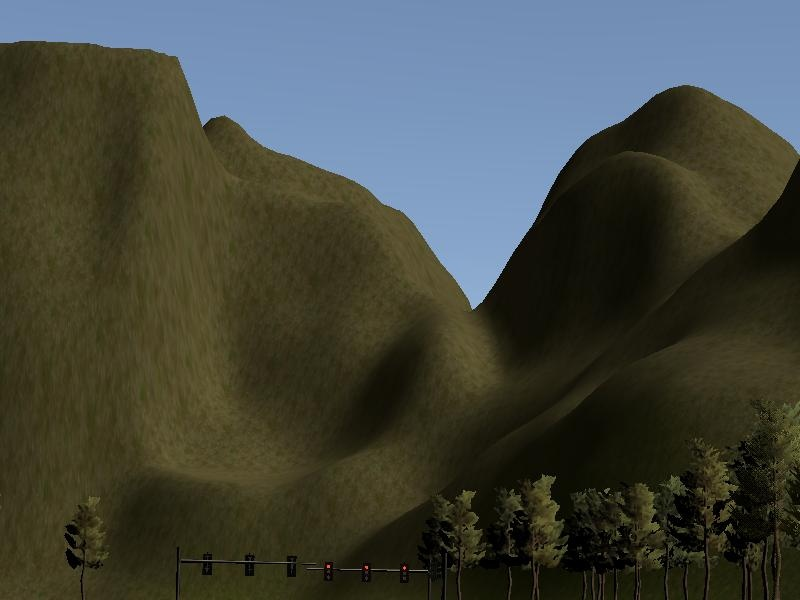red: (359, 559, 373, 587), (397, 560, 410, 586), (322, 560, 335, 584)
